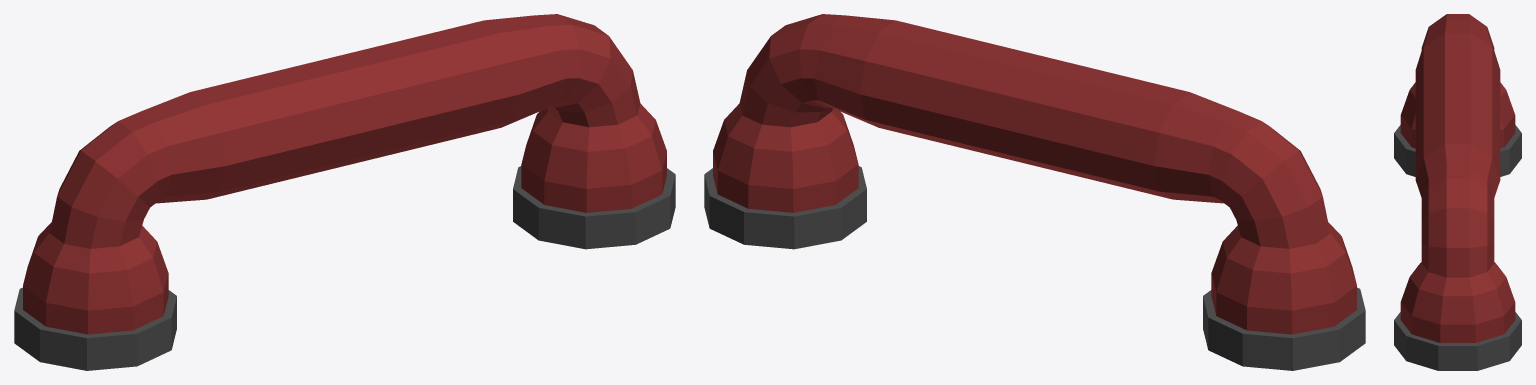
File: Rotary phone horn.fbx
3 views of the same model, side by side, from view 1: azimuth 30°, elevation 25°; view 2: azimuth 150°, elevation 25°; view 3: azimuth 270°, elevation 25° (orthographic). The views are drawn at different scales.
Visible parts, largest first — view 1: Phone horn; view 2: Phone horn; view 3: Phone horn.
Part boxes in pixels (x1,y1,x2,y2): Phone horn: (14, 14, 675, 370); Phone horn: (704, 14, 1365, 370); Phone horn: (1394, 14, 1521, 370).
Size of the model in its own units: 317 by 101 by 71.89.
